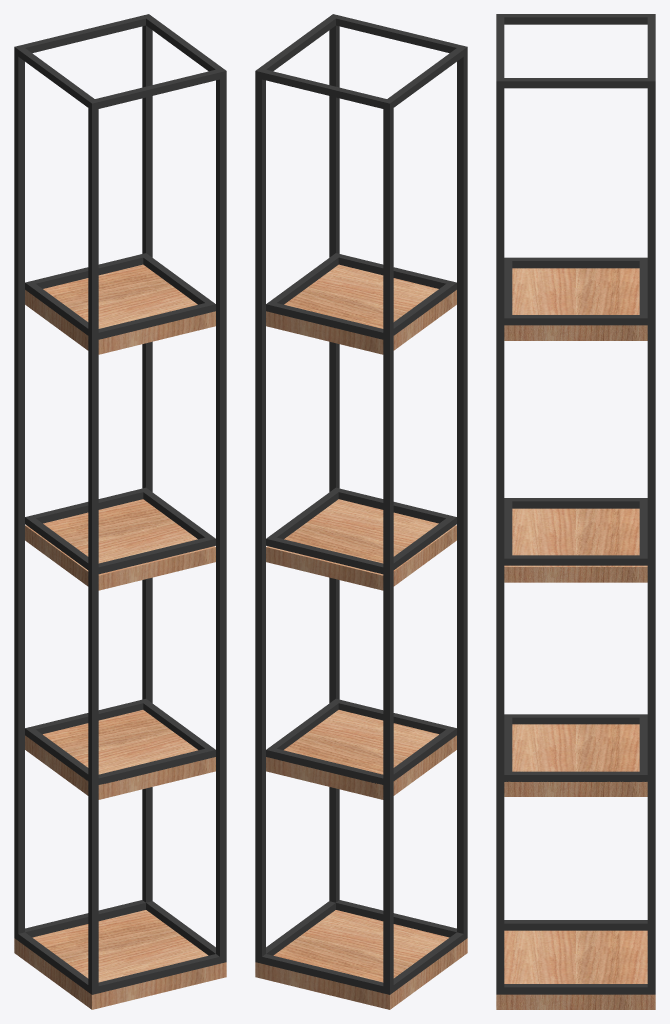
File: kwietnik-pionowy-4-pietrowy.glb
3 renders of one model, left to right at view 1: azimuth 30°, elevation 25°; view 2: azimuth 150°, elevation 25°; view 3: azimuth 270°, elevation 25°, orthographic. The views are drawn at different scales.
Parts seen in each view (by area): view 1: Solid1 (×5); view 2: Solid1 (×5); view 3: Solid1 (×5).
Boxes of the visible parts, x1,y1,x2,y2 form: Solid1 (×5): [14, 14, 226, 1009]; Solid1 (×5): [255, 14, 467, 1009]; Solid1 (×5): [496, 14, 655, 1009].
Bounding box in the file's own units: 0.3 × 1.93 × 0.3.
Materials: 2 (1 with a texture image).
